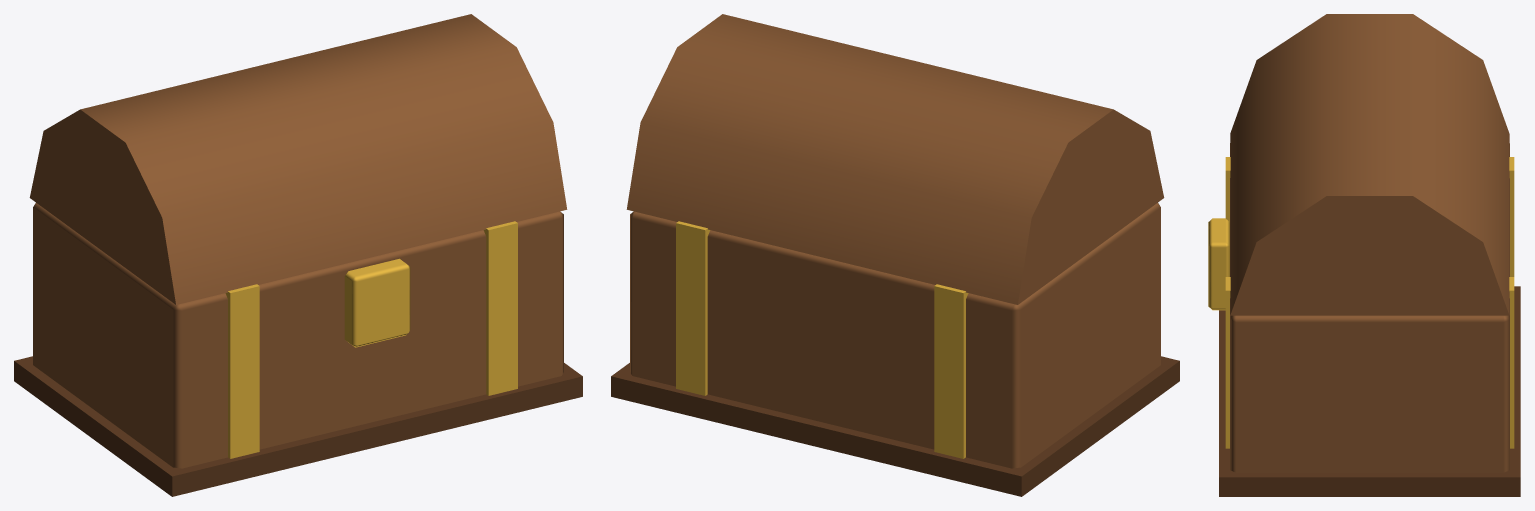
Rendered from TreasureChest.fbx.
3 views of the same model, side by side, from view 1: azimuth 30°, elevation 25°; view 2: azimuth 150°, elevation 25°; view 3: azimuth 270°, elevation 25° (orthographic). The views are drawn at different scales.
Visible parts, largest first — view 1: Lid, Body, Band1, Base; view 2: Lid, Body, Base, Band1; view 3: Lid, Body, Base, Band1.
Part boxes in pixels (left/top/right/bottom): Lid: left=29, top=14, right=567, bottom=304; Body: left=33, top=203, right=563, bottom=468; Band1: left=225, top=221, right=517, bottom=458; Base: left=14, top=356, right=582, bottom=496; Lid: left=626, top=14, right=1164, bottom=304; Body: left=630, top=203, right=1160, bottom=468; Base: left=611, top=356, right=1179, bottom=496; Band1: left=676, top=221, right=968, bottom=458; Lid: left=1230, top=14, right=1509, bottom=315; Body: left=1230, top=143, right=1509, bottom=472; Base: left=1219, top=286, right=1520, bottom=496; Band1: left=1208, top=157, right=1514, bottom=448.
Bounding box in the file's own units: 4.2 × 3.06 × 2.9.
